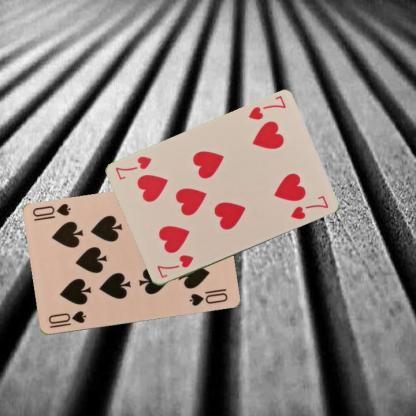10s: (46, 308, 87, 330)
7h: (245, 93, 287, 122), (154, 253, 195, 280)
